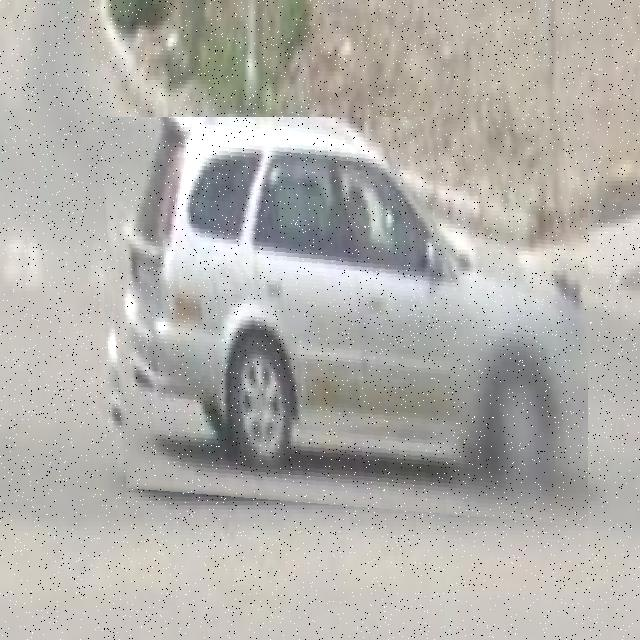car: (97, 118, 589, 529)
